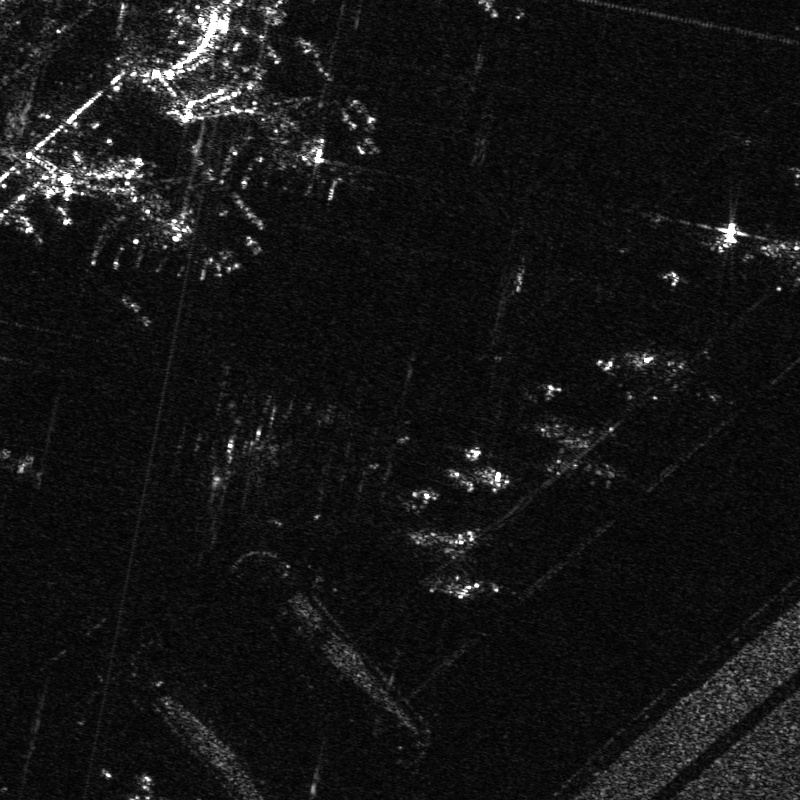Boeing737: (81, 175, 219, 272), (221, 93, 334, 176), (535, 402, 631, 488), (633, 343, 731, 411), (759, 233, 799, 301)
